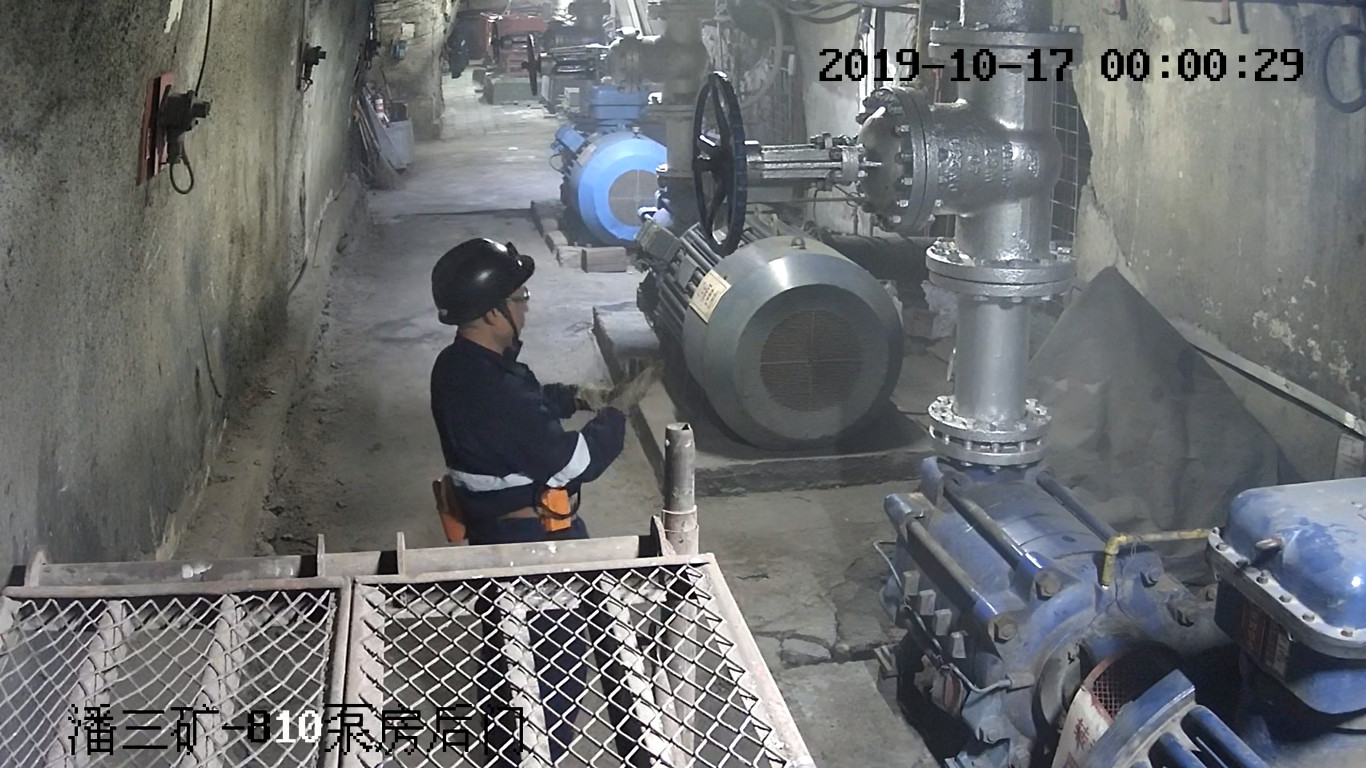helmet: (430, 239, 538, 323)
